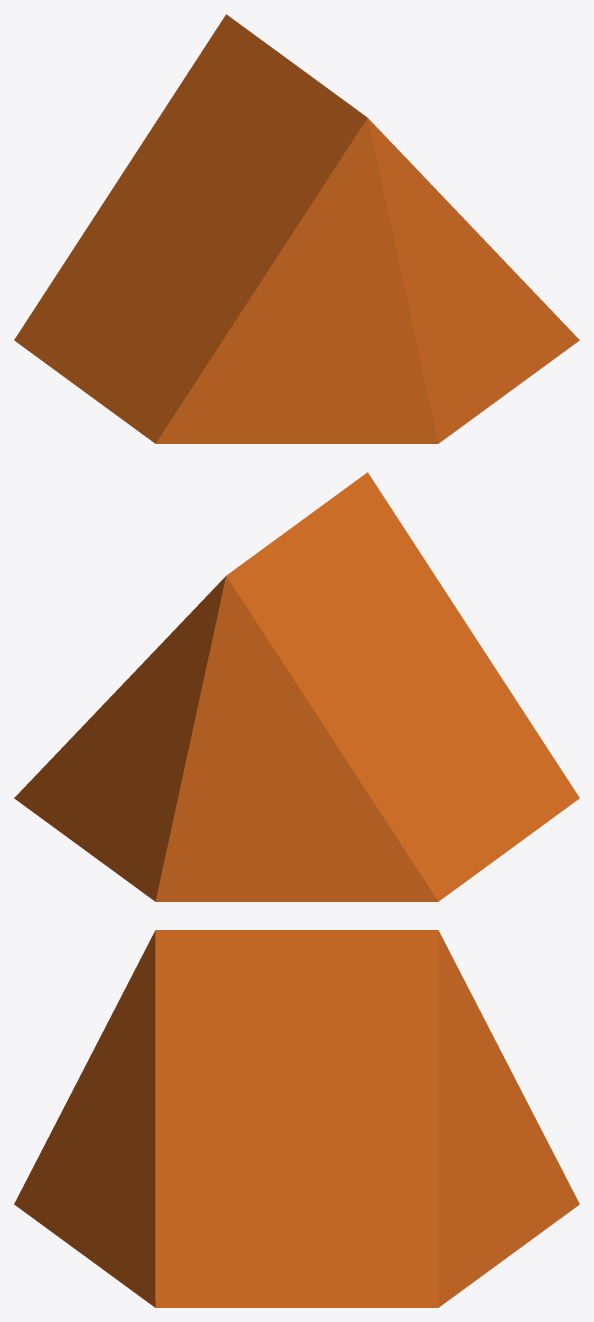
File: RPG_Tiles_Hex_Building_Roof_06.FBX
3 renders of one model, top to bottom at view 1: azimuth 30°, elevation 25°; view 2: azimuth 150°, elevation 25°; view 3: azimuth 270°, elevation 25°, orthographic.
Parts seen in each view (by area): view 1: RPG_Tiles_Hex_Building_Roof_06; view 2: RPG_Tiles_Hex_Building_Roof_06; view 3: RPG_Tiles_Hex_Building_Roof_06.
Boxes of the visible parts, bbox=[...] form: RPG_Tiles_Hex_Building_Roof_06: bbox=[14, 14, 579, 443]; RPG_Tiles_Hex_Building_Roof_06: bbox=[14, 472, 579, 901]; RPG_Tiles_Hex_Building_Roof_06: bbox=[14, 930, 579, 1307].
Size of the model in its own units: 3000 by 1853 by 3464.
